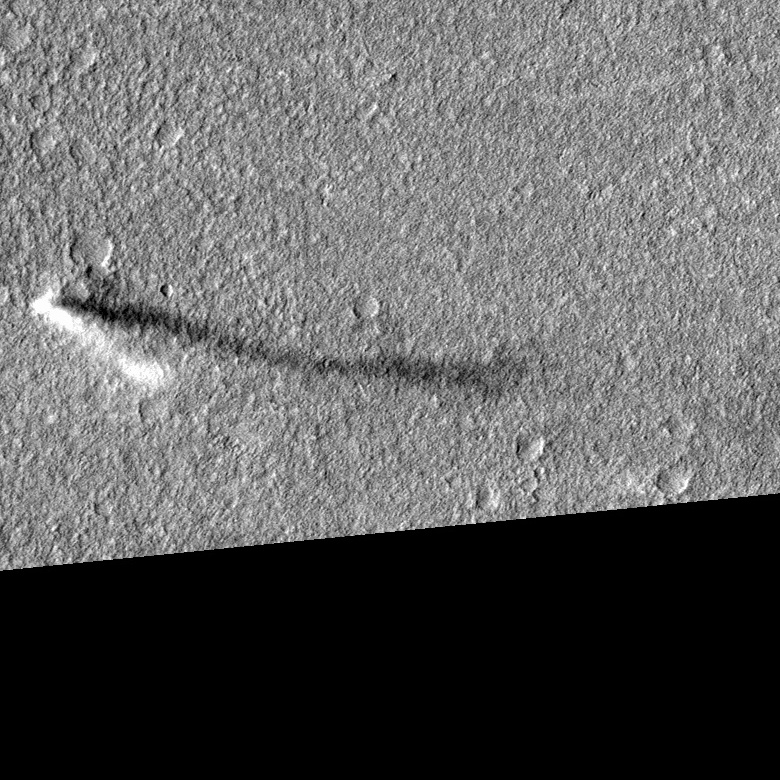dust_devil: (28, 284, 530, 412)
